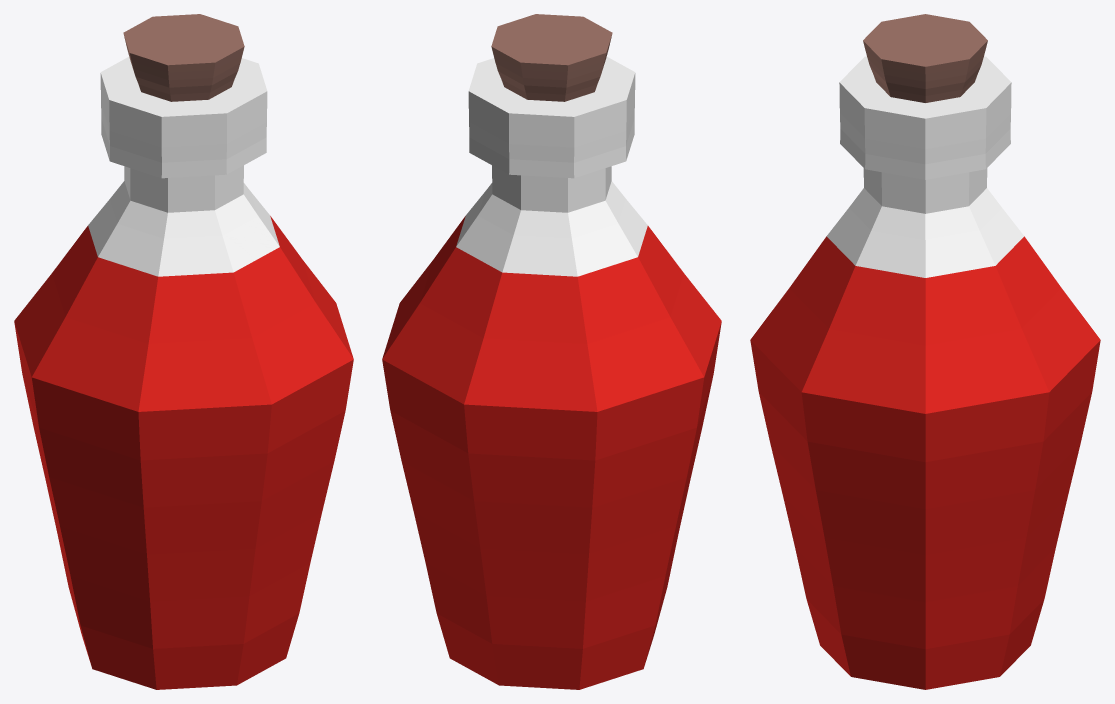
File: small_potion_red.fbx
The picture shows the model from 3 angles, left to right: view 1: azimuth 30°, elevation 25°; view 2: azimuth 150°, elevation 25°; view 3: azimuth 270°, elevation 25°; orthographic projection.
Visible parts, largest first — view 1: redpotion1; view 2: redpotion1; view 3: redpotion1.
Part boxes in pixels (x1=…): redpotion1: x1=14, y1=14, x2=353, y2=689; redpotion1: x1=382, y1=14, x2=721, y2=689; redpotion1: x1=750, y1=14, x2=1100, y2=689.
Size of the model in its own units: 31.18 by 59.4 by 31.18.
